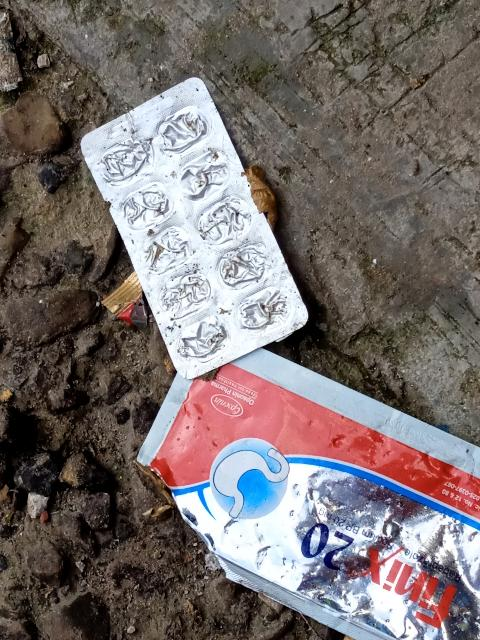medicine: (124, 333, 480, 640), (61, 67, 322, 385)
